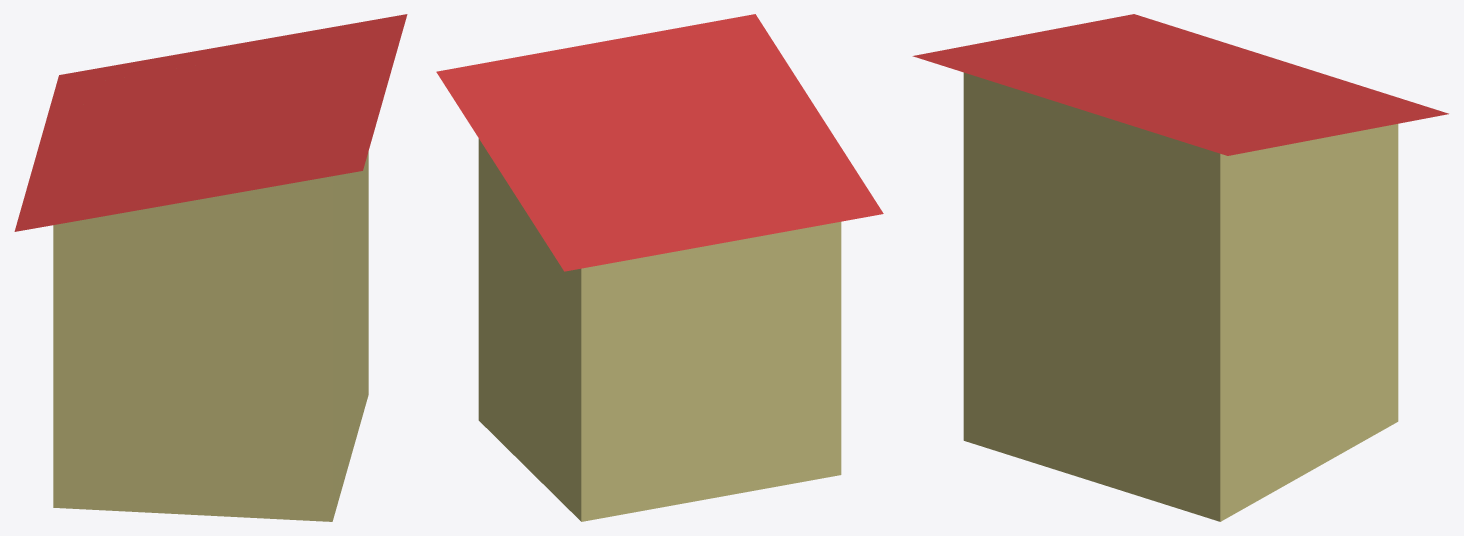
The picture shows the model from 3 angles, left to right: view 1: azimuth 30°, elevation 25°; view 2: azimuth 150°, elevation 25°; view 3: azimuth 270°, elevation 25°; orthographic projection. The views are drawn at different scales.
Bounding box in the file's own units: 7.25 × 7.32 × 5.82.
